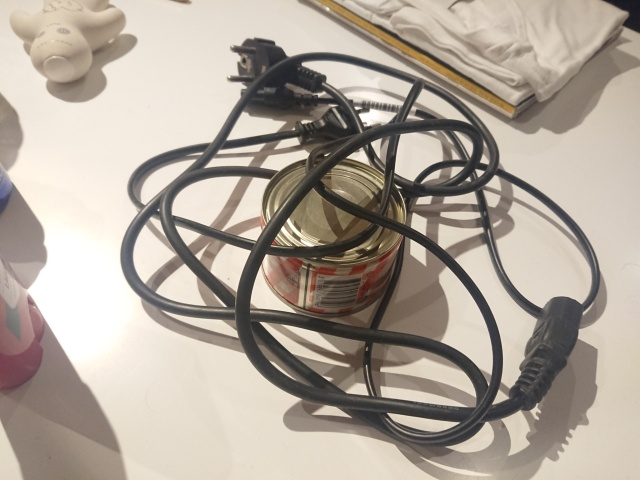Podravka Luncheon Meat 150g: (255, 153, 412, 323)
